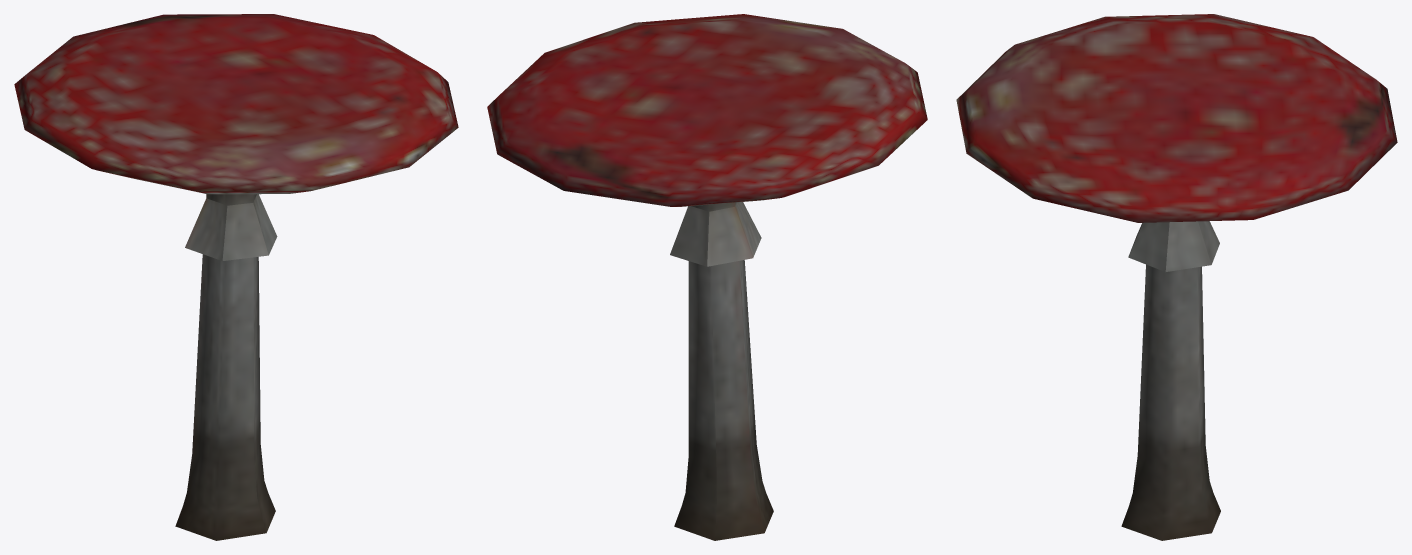
Rendered from mushroom_n_4.obj.
3 renders of one model, left to right at view 1: azimuth 30°, elevation 25°; view 2: azimuth 150°, elevation 25°; view 3: azimuth 270°, elevation 25°, orthographic.
Visible parts, largest first — view 1: mushroom_n_4; view 2: mushroom_n_4; view 3: mushroom_n_4.
Boxes of the visible parts, <box> form: mushroom_n_4: <box>14,14,458,540</box>; mushroom_n_4: <box>487,14,927,540</box>; mushroom_n_4: <box>956,14,1397,540</box>.
Size of the model in its own units: 0.171 by 0.1856 by 0.1712.
